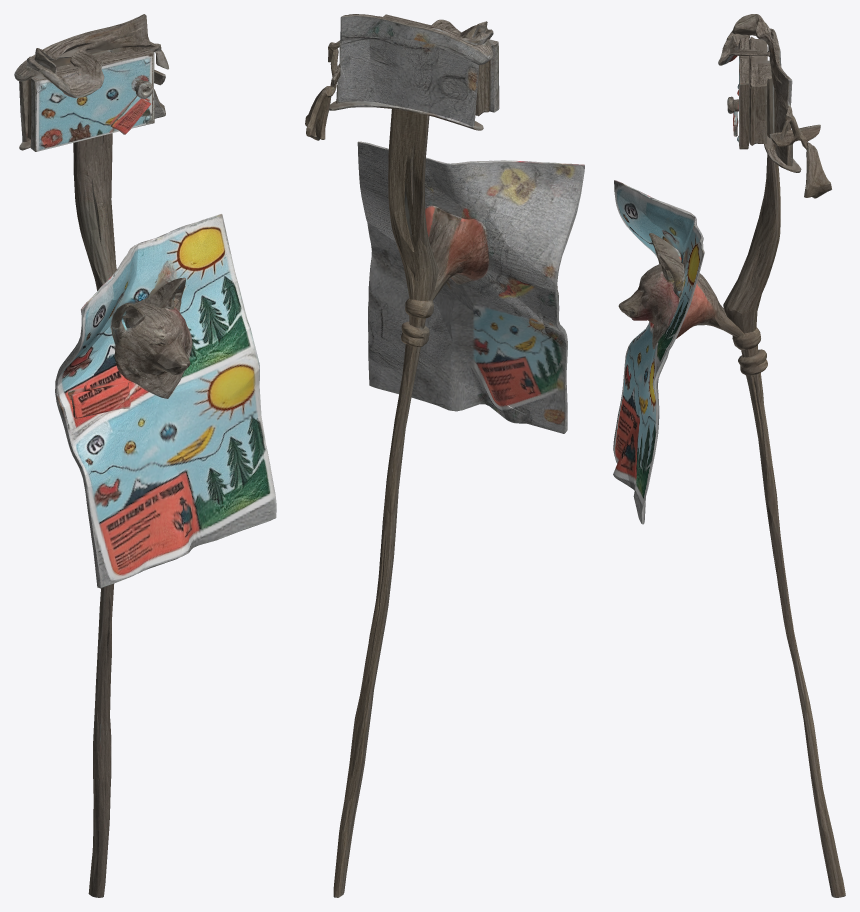
3 renders of one model, left to right at view 1: azimuth 30°, elevation 25°; view 2: azimuth 150°, elevation 25°; view 3: azimuth 270°, elevation 25°, orthographic. The views are drawn at different scales.
Bounding box in the file's own units: 0.463 × 1.9 × 0.4805.
1 material, 1 textured.
